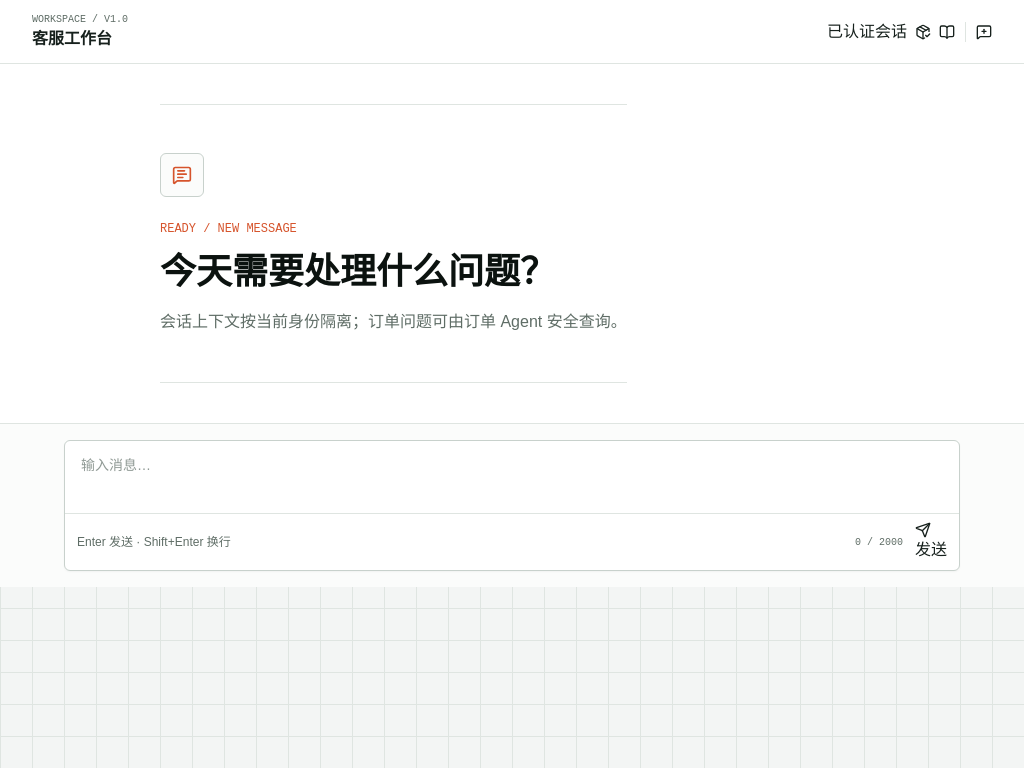
ChatWorkspace › sends a trimmed message and appends the assistant response
Type "  你好  " into the text box labelled "输入消息" at [512, 477], box top-left (65, 441), bottom-right (959, 513)
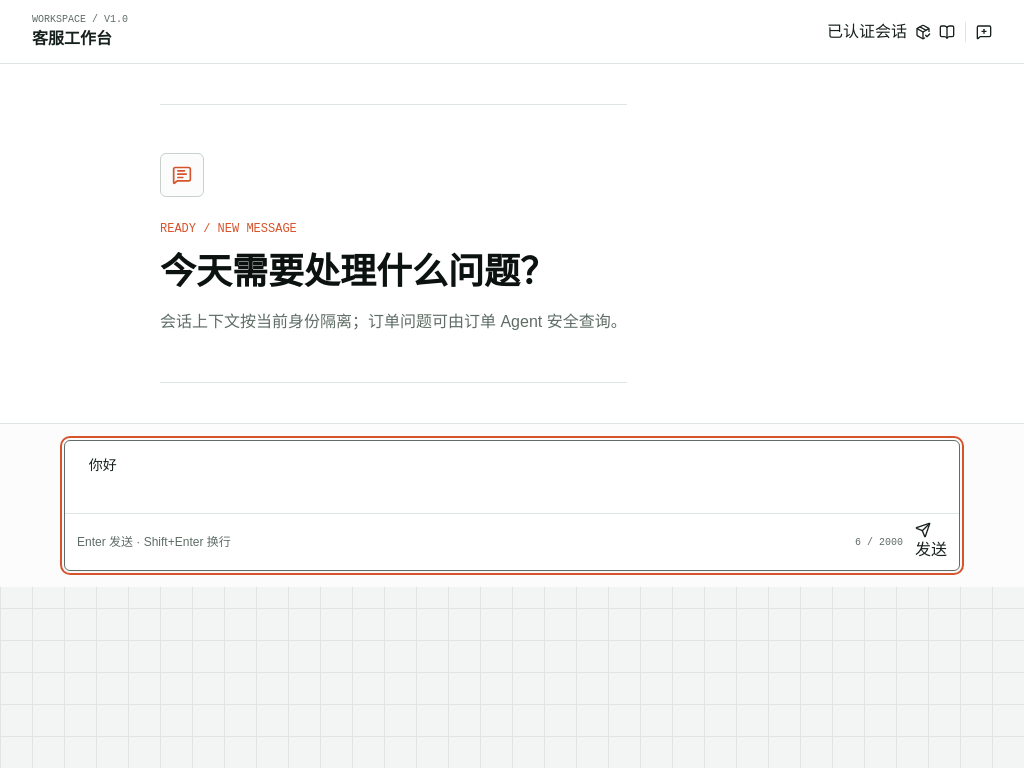
Click the button with aria-label "发送消息" at [931, 542], box top-left (915, 522), bottom-right (947, 562)
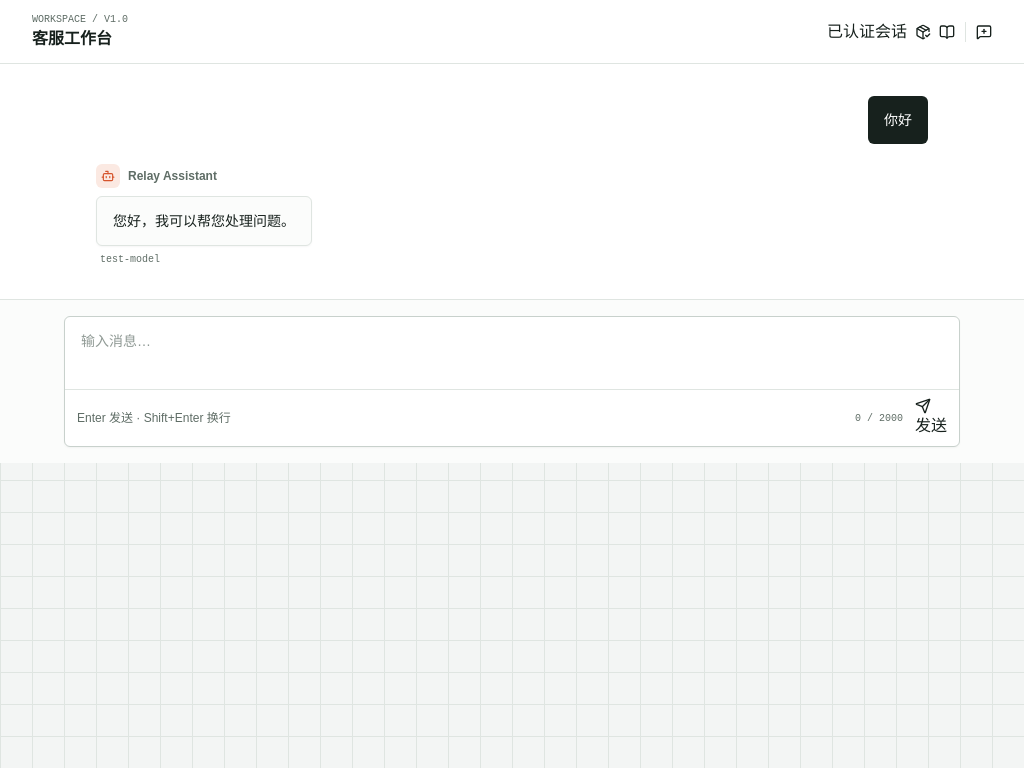
Check: the text "你好" is shown, box top-left (868, 96), bottom-right (928, 144)
Check: the text "您好，我可以帮您处理问题。" is shown, box top-left (96, 196), bottom-right (312, 246)
Check: the text "test-model" is shown, box top-left (96, 252), bottom-right (164, 267)
